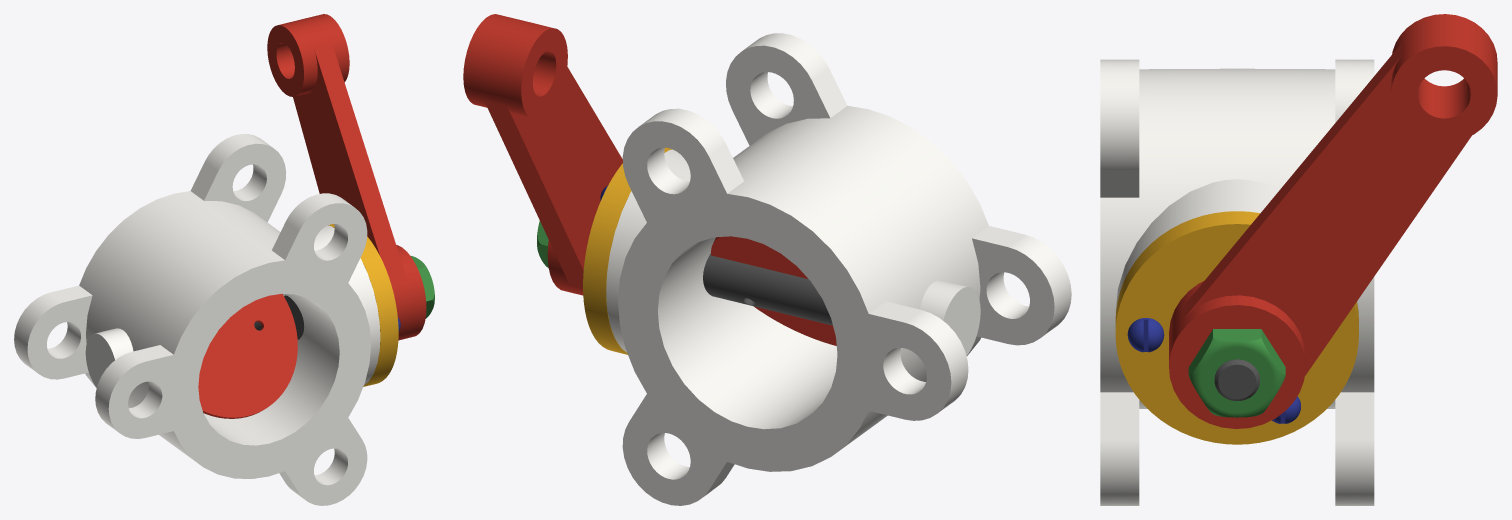
The model's file is Butterfly Valve Assembly Merged.fbx.
The picture shows the model from 3 angles, left to right: view 1: azimuth 30°, elevation 25°; view 2: azimuth 150°, elevation 25°; view 3: azimuth 270°, elevation 25°; orthographic projection. The views are drawn at different scales.
Parts seen in each view (by area): view 1: Body1, Body8, Body7, Body2, Body9; view 2: Body1, Body8, Body6, Body2, Body7; view 3: Body8, Body1, Body2, Body9, Body6, Body3.
Boxes of the visible parts, x1=… form: Body1: x1=14, y1=134, x2=380, y2=505; Body8: x1=267, y1=14, x2=426, y2=340; Body7: x1=198, y1=294, x2=297, y2=418; Body2: x1=328, y1=224, x2=398, y2=386; Body9: x1=410, y1=255, x2=434, y2=318; Body1: x1=606, y1=33, x2=1071, y2=505; Body8: x1=463, y1=14, x2=622, y2=295; Body6: x1=703, y1=253, x2=832, y2=325; Body2: x1=583, y1=147, x2=672, y2=354; Body7: x1=711, y1=236, x2=836, y2=345; Body8: x1=1169, y1=14, x2=1497, y2=428; Body1: x1=1100, y1=59, x2=1374, y2=505; Body2: x1=1115, y1=211, x2=1358, y2=444; Body9: x1=1188, y1=329, x2=1285, y2=417; Body6: x1=1214, y1=359, x2=1259, y2=400; Body3: x1=1127, y1=318, x2=1164, y2=352.
Bounding box in the file's own units: 498 × 488 × 326.
